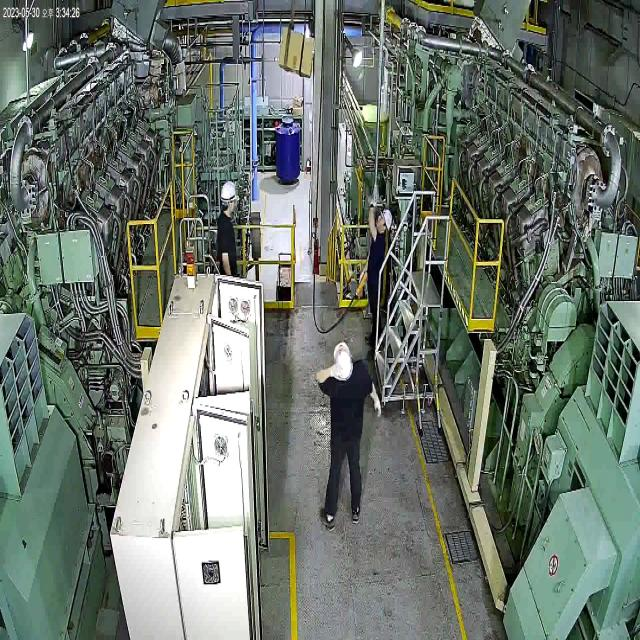Water Tank: (271, 110, 304, 190)
worker: (313, 336, 382, 536), (363, 182, 394, 358), (210, 171, 240, 279)
